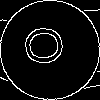O: (25, 25, 72, 66)
